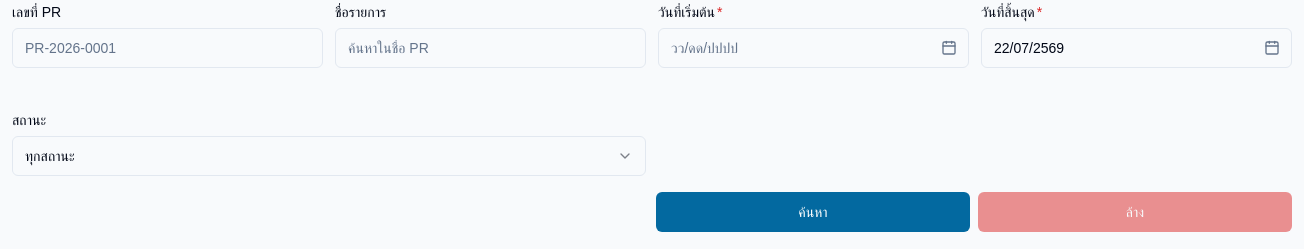
Test case: PRListFilterForm › ล้าง button enables after the user changes a field
The image size is (1304, 249).
Expected: the button "ล้าง" is disabled, [978,192,1292,232]
Type "PR-2026" into the field labelled "เลขที่ PR". click: (168, 48)
box: [12,28,323,68]
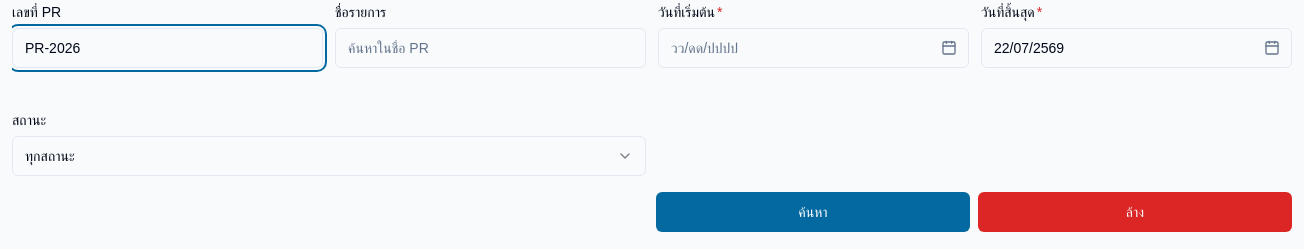
Expected: the button "ล้าง" is enabled, [978,192,1292,232]
